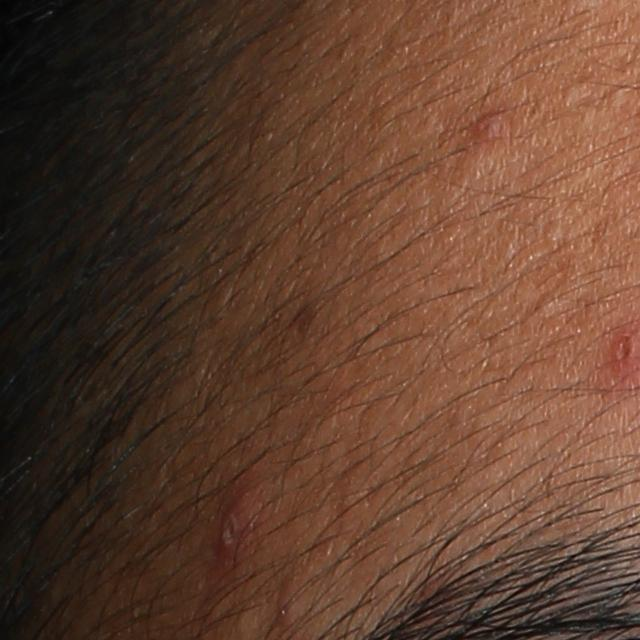comedo: (559, 78, 586, 108)
